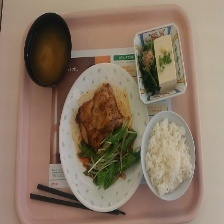rice: (144, 123, 196, 199)
